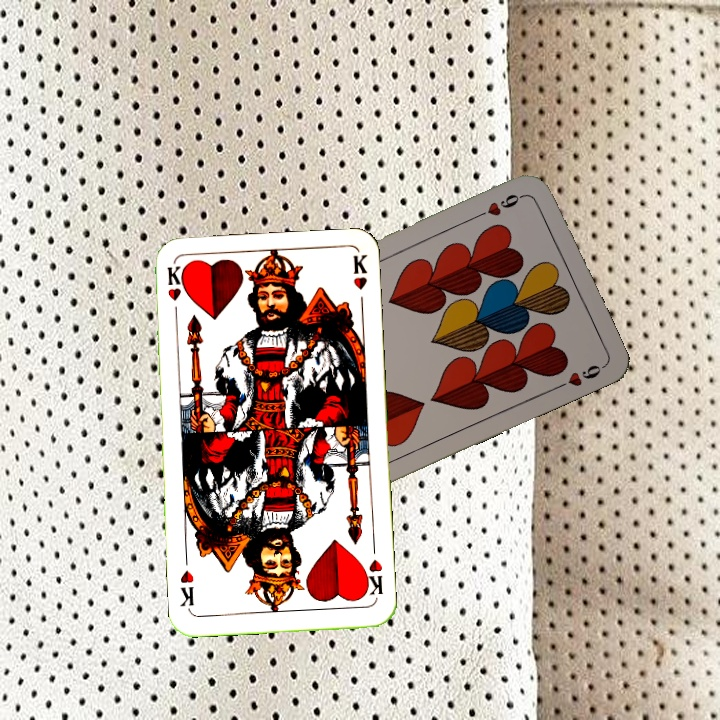H9: (472, 189, 528, 221)
HK: (163, 262, 186, 321), (359, 556, 386, 602)
